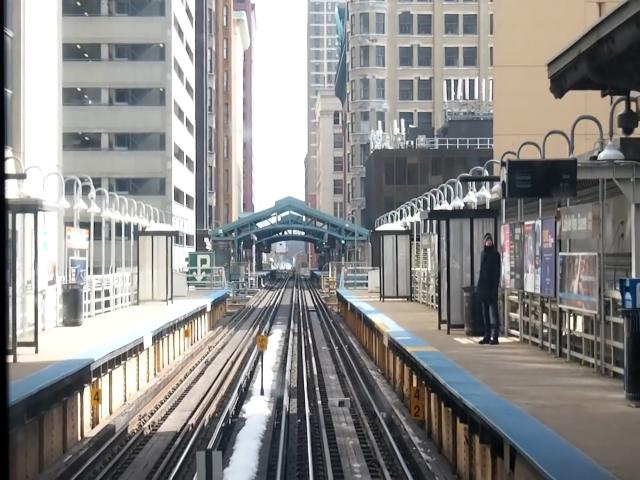signal light: (342, 239, 347, 257)
